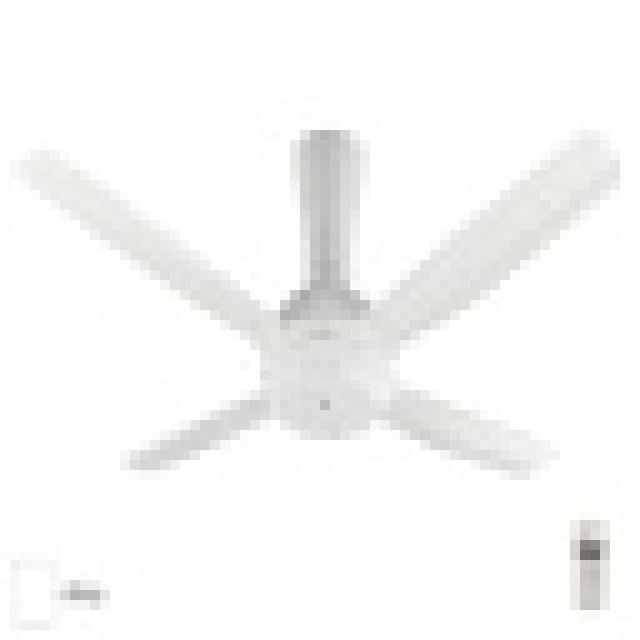Bulb: (20, 110, 640, 500)
